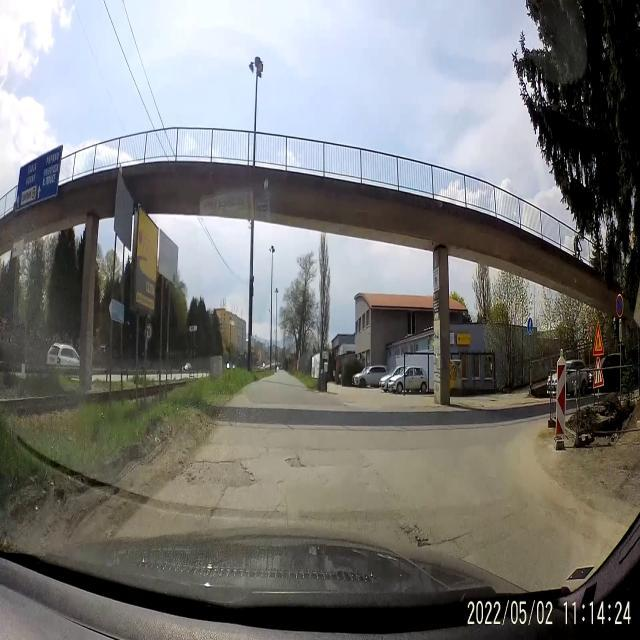Pothole: (180, 456, 260, 492), (397, 516, 437, 552), (282, 450, 310, 474)
